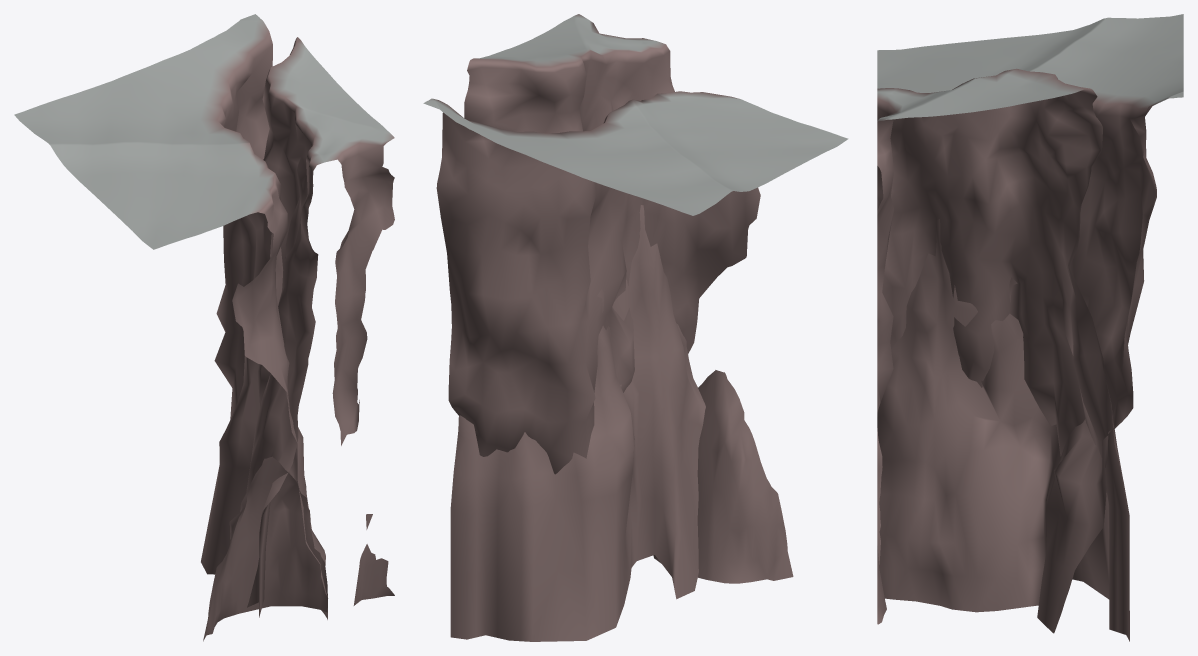
The picture shows the model from 3 angles, left to right: view 1: azimuth 30°, elevation 25°; view 2: azimuth 150°, elevation 25°; view 3: azimuth 270°, elevation 25°; orthographic projection. The views are drawn at different scales.
Parts seen in each view (by area): view 1: G:\FFXIV-MapTools\exports\u5f1\bg\ex4\04_uvs_u5\fld\u5f1\bgp (×12); view 2: G:\FFXIV-MapTools\exports\u5f1\bg\ex4\04_uvs_u5\fld\u5f1\bgp (×11); view 3: G:\FFXIV-MapTools\exports\u5f1\bg\ex4\04_uvs_u5\fld\u5f1\bgp (×11).
Part boxes in pixels (x1=…): G:\FFXIV-MapTools\exports\u5f1\bg\ex4\04_uvs_u5\fld\u5f1\bgp (×12): x1=14, y1=14, x2=394, y2=641; G:\FFXIV-MapTools\exports\u5f1\bg\ex4\04_uvs_u5\fld\u5f1\bgp (×11): x1=423, y1=14, x2=848, y2=641; G:\FFXIV-MapTools\exports\u5f1\bg\ex4\04_uvs_u5\fld\u5f1\bgp (×11): x1=877, y1=14, x2=1183, y2=641.
Bounding box in the file's own units: 128 × 255 × 128.
